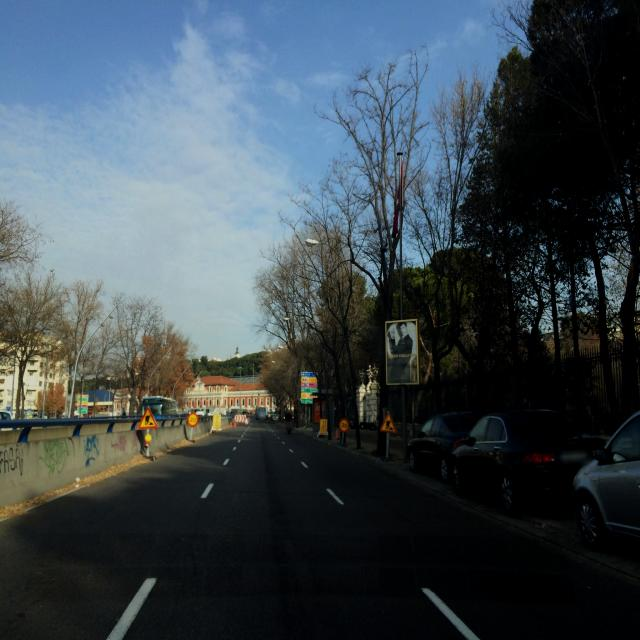car: (452, 408, 607, 517), (570, 399, 640, 558), (406, 410, 482, 482), (0, 409, 12, 422)
